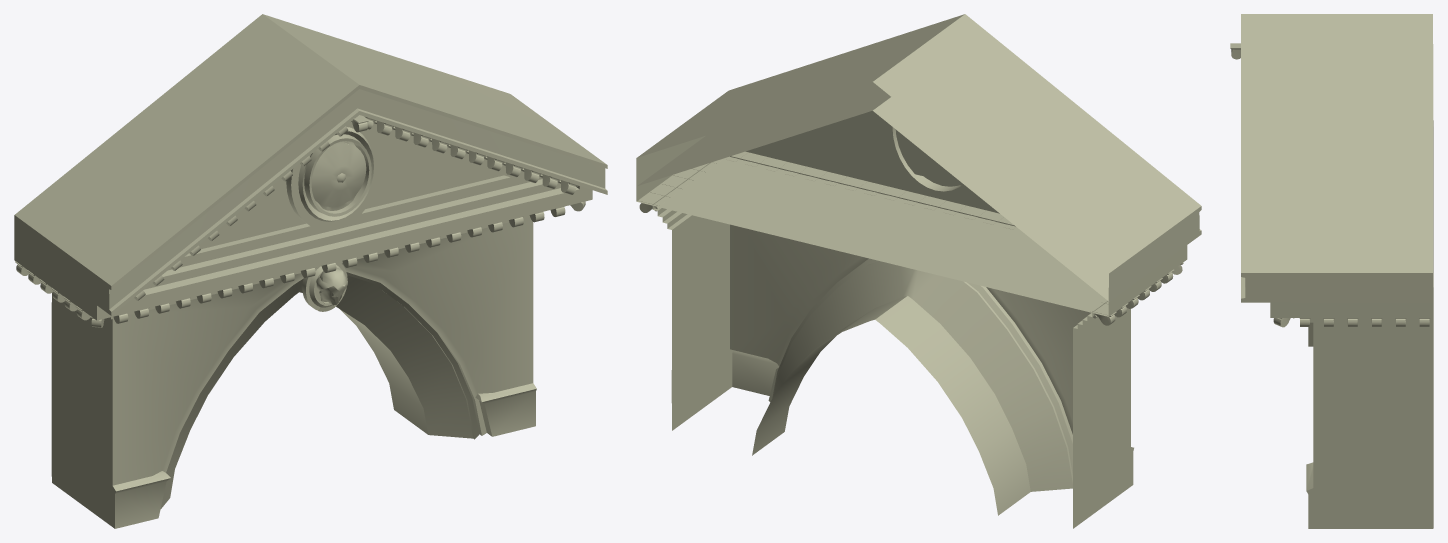
Rendered from SM_archdoortopJOIn.fbx.
3 renders of one model, left to right at view 1: azimuth 30°, elevation 25°; view 2: azimuth 150°, elevation 25°; view 3: azimuth 270°, elevation 25°, orthographic. The views are drawn at different scales.
Parts seen in each view (by area): view 1: top_low.001, mid_low.003, circle_low.001, SM_archdoortopJOIn, mid_low.001; view 2: top_low.001, mid_low.003, SM_archdoortopJOIn; view 3: top_low.001, mid_low.003, SM_archdoortopJOIn.
Part boxes in pixels (box(x1,y1,x2,y2)): top_low.001: box(14, 14, 607, 528); mid_low.003: box(14, 123, 592, 320); circle_low.001: box(286, 122, 380, 311); SM_archdoortopJOIn: box(15, 115, 585, 327); mid_low.001: box(316, 267, 347, 305); top_low.001: box(636, 14, 1201, 528); mid_low.003: box(636, 111, 1187, 316); SM_archdoortopJOIn: box(638, 152, 1183, 325); top_low.001: box(1241, 14, 1433, 528); mid_low.003: box(1270, 127, 1433, 317); SM_archdoortopJOIn: box(1230, 43, 1429, 327).
Bounding box in the file's own units: 1722 × 1408 × 617.
